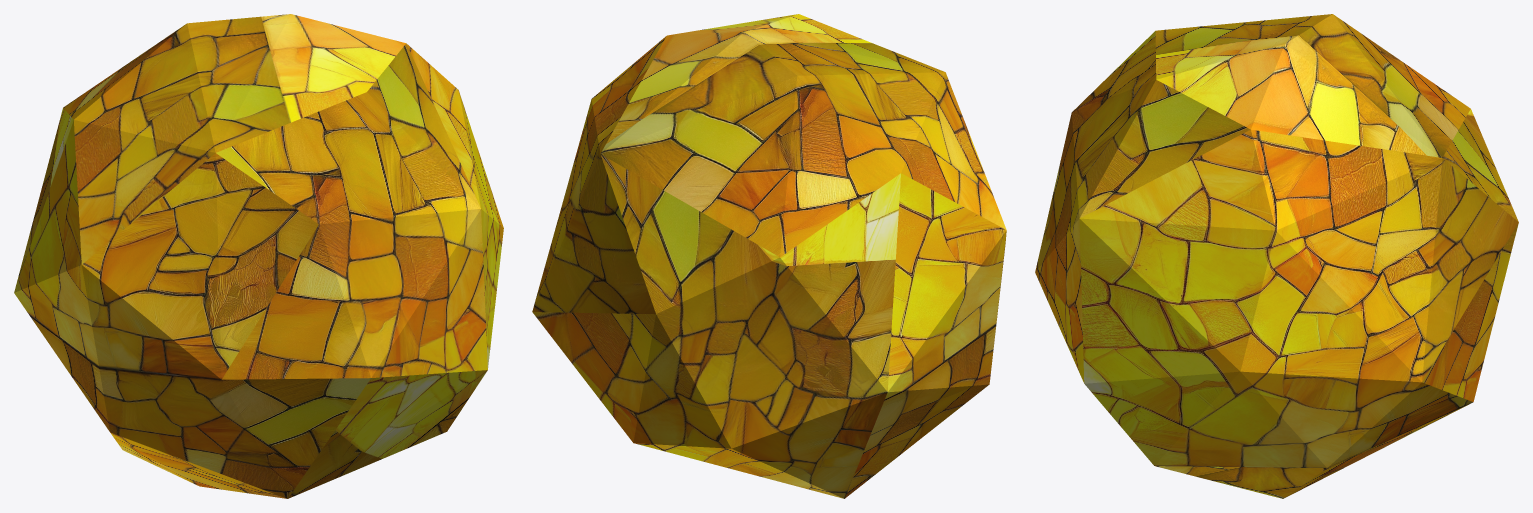
File: star1Yellow.glb
3 views of the same model, side by side, from view 1: azimuth 30°, elevation 25°; view 2: azimuth 150°, elevation 25°; view 3: azimuth 270°, elevation 25° (orthographic). The views are drawn at different scales.
Visible parts, largest first — view 1: star1; view 2: star1; view 3: star1.
Part boxes in pixels (x1,y1,x2,y2): star1: (14, 14, 503, 498); star1: (532, 14, 1006, 498); star1: (1035, 14, 1518, 498).
Size of the model in its own units: 1 by 1 by 1.
Materials: 1 (1 with a texture image).
